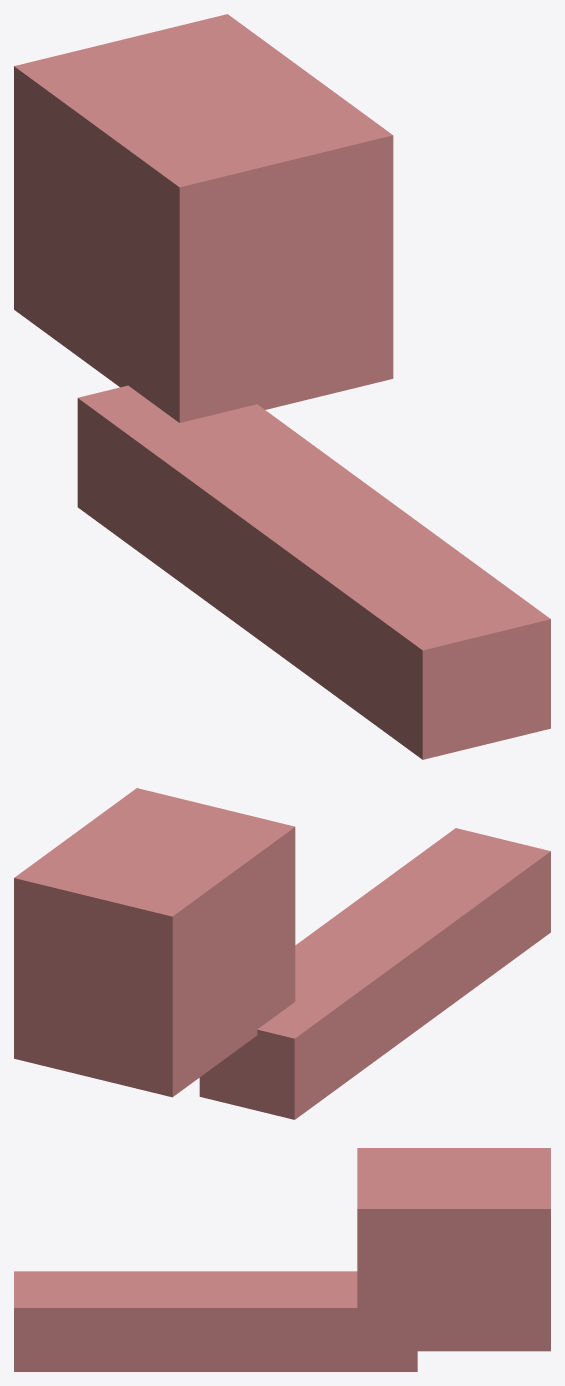
Rendered from 199501_occ.glb.
The picture shows the model from 3 angles, top to bottom: view 1: azimuth 30°, elevation 25°; view 2: azimuth 150°, elevation 25°; view 3: azimuth 270°, elevation 25°; orthographic projection. The views are drawn at different scales.
Parts seen in each view (by area): view 1: world; view 2: world; view 3: world.
Boxes of the visible parts, <box> form: world: <box>14,14,550,759</box>; world: <box>14,788,550,1119</box>; world: <box>14,1148,550,1371</box>.
Bounding box in the file's own units: 0.7908 × 0.9872 × 2.38.
